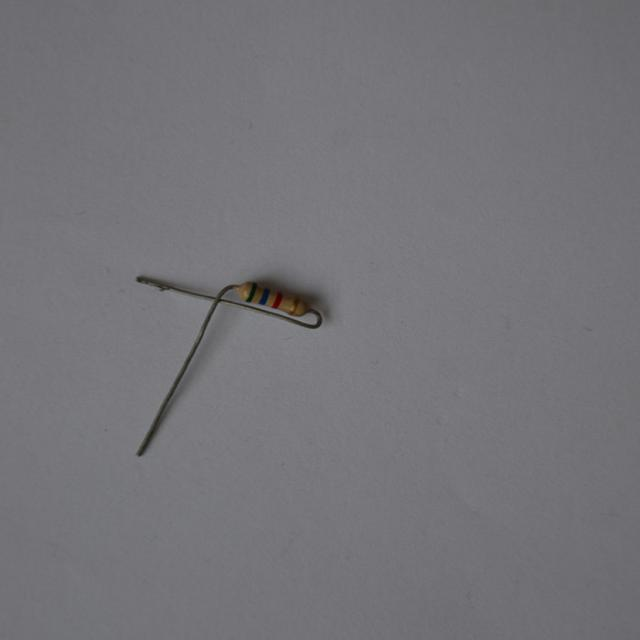blue: (259, 289, 270, 305)
gold: (292, 298, 301, 314)
green: (246, 283, 257, 303)
red: (272, 293, 283, 308)
resistor: (240, 276, 315, 326)
